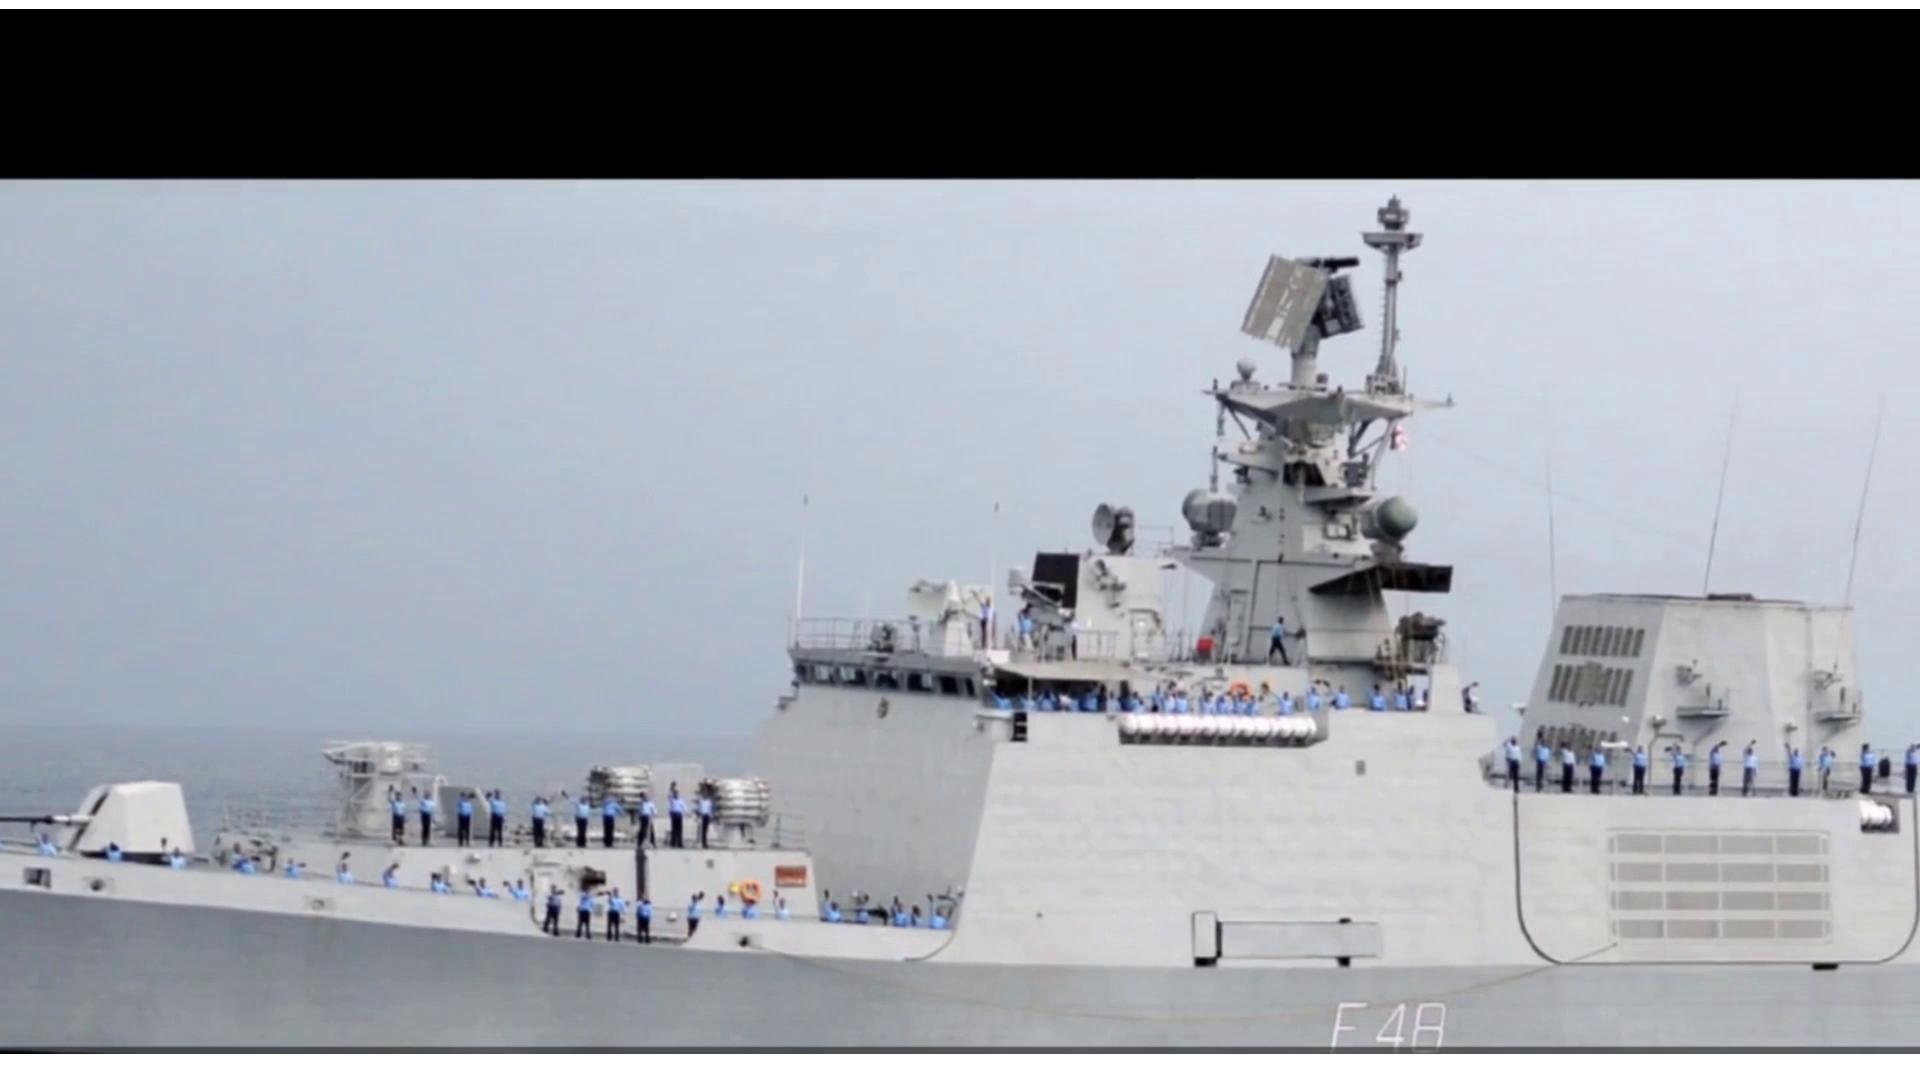OCR: (1299, 989, 1457, 1051)
